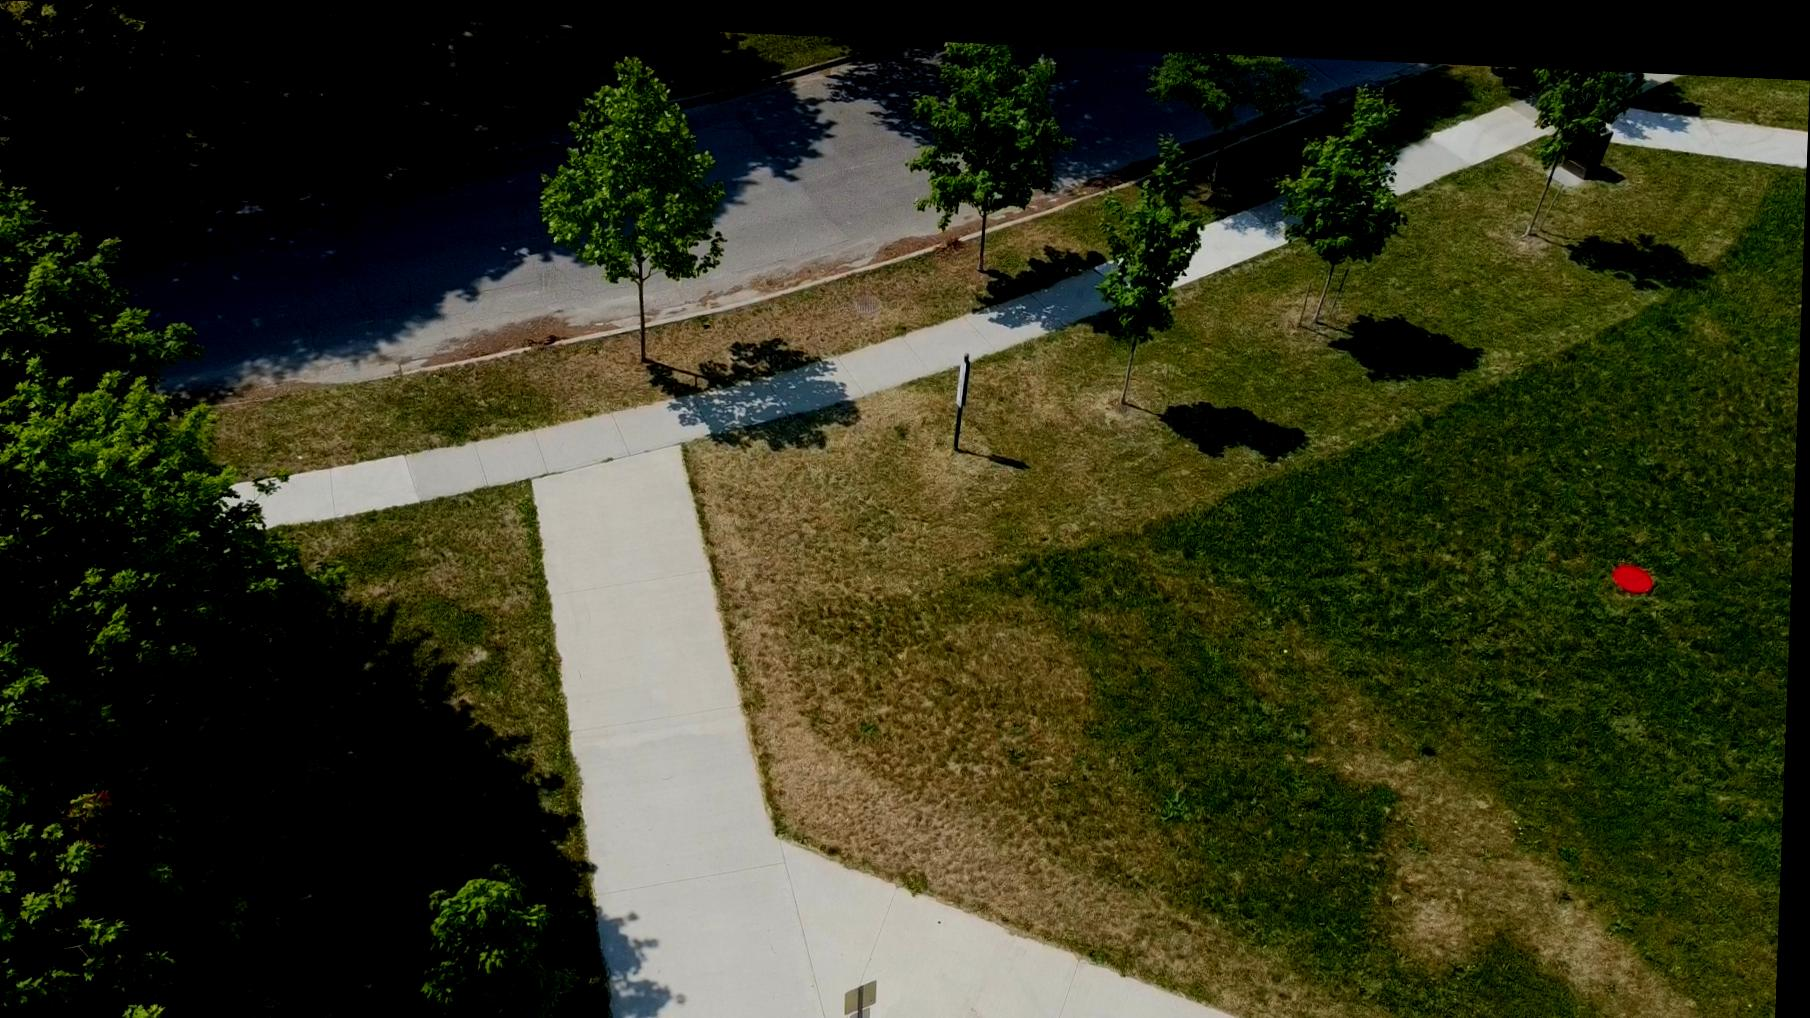Red: (1615, 547, 1660, 580)
